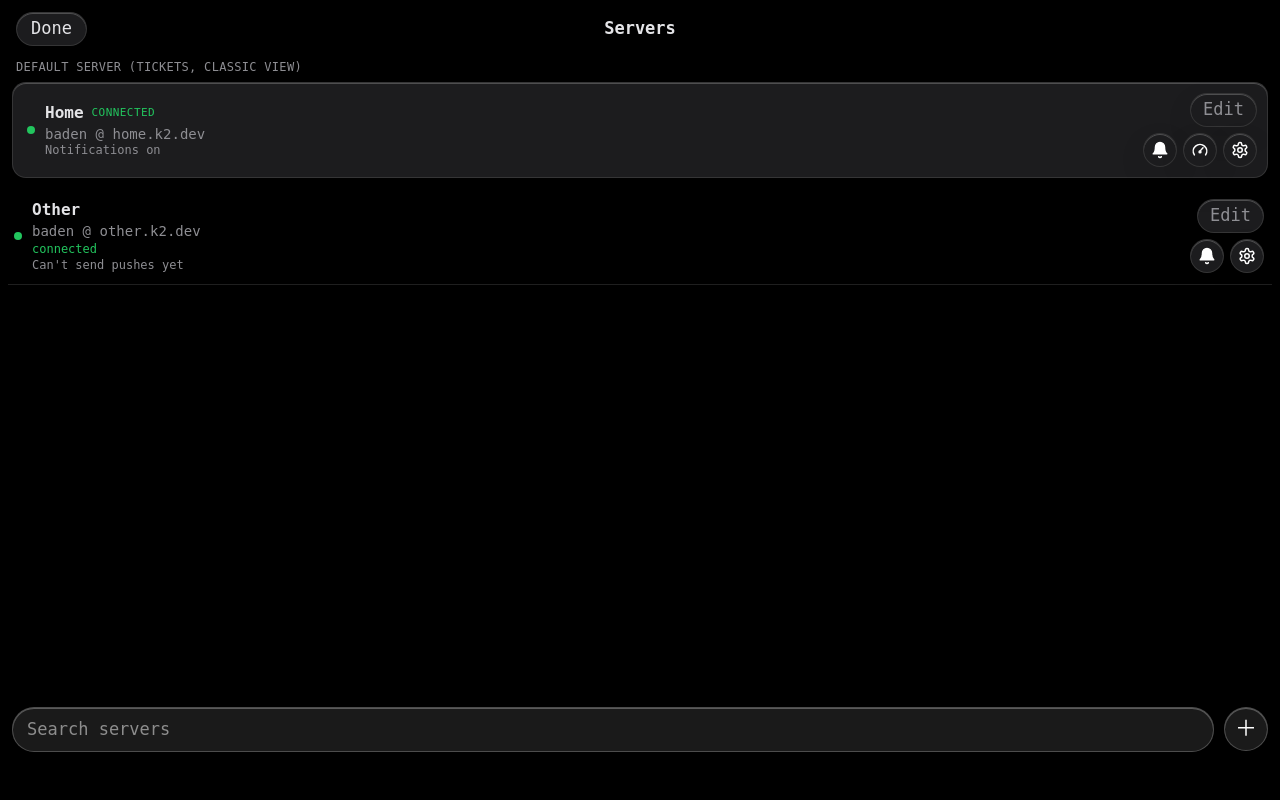
Servers sheet bell › a bell + status per server; the other server's bell writes to THAT server
Expected: the text with test id "server-notify-status" reads "Notifications on", [45,143,161,157]
Expected: the text with test id "server-notify-status" reads "Can't send pushes yet", [32,258,184,272]
Click the 2nd button with test id "server-bell".
click(1207, 256)  # box [1190,239,1224,273]
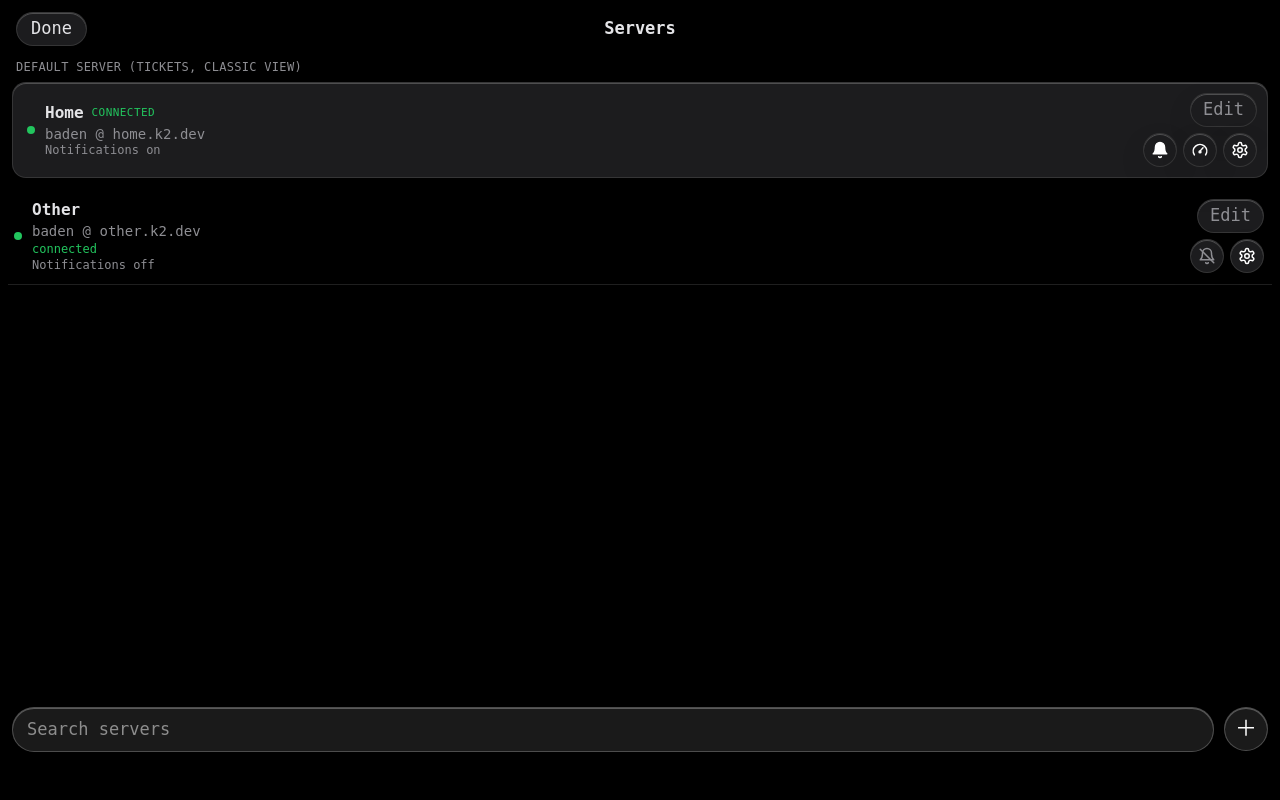
Now the text with test id "server-notify-status" reads "Notifications off", box [32,258,155,272]
